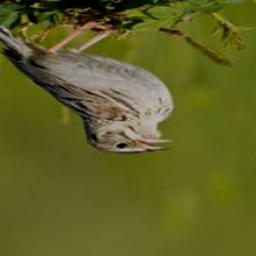Sparrow: (0, 1, 166, 155)
